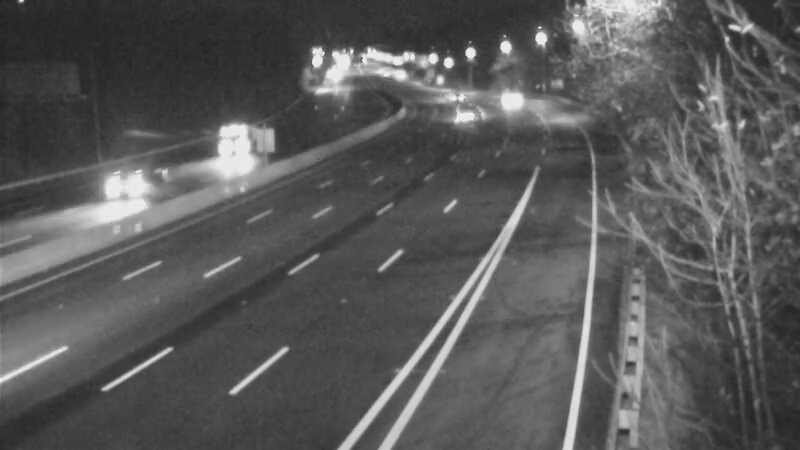vehicle: (85, 142, 165, 222), (377, 53, 427, 103), (486, 79, 536, 129), (431, 75, 481, 125), (438, 95, 488, 145), (200, 116, 250, 166)
